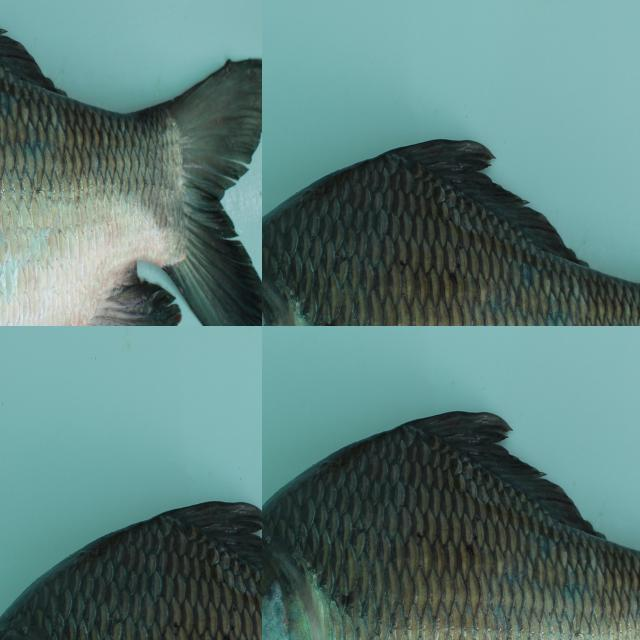fish: (262, 379, 640, 640), (0, 326, 262, 640)
